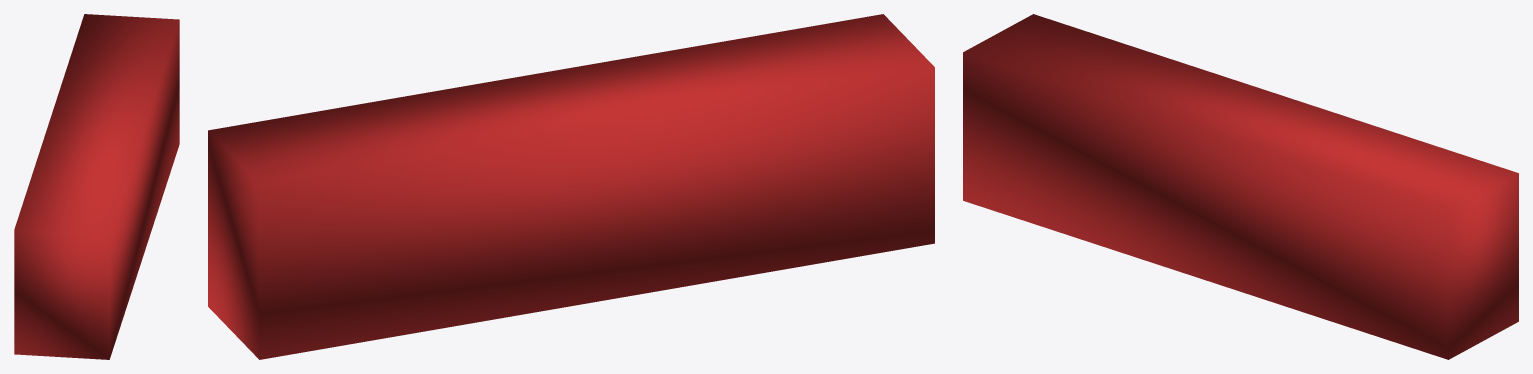
The model's file is NoLod_0.glb.
3 views of the same model, side by side, from view 1: azimuth 30°, elevation 25°; view 2: azimuth 150°, elevation 25°; view 3: azimuth 270°, elevation 25° (orthographic). The views are drawn at different scales.
Visible parts, largest first — view 1: rtc; view 2: rtc; view 3: rtc.
Boxes of the visible parts, x1,y1,x2,y2 form: rtc: [14, 14, 179, 359]; rtc: [208, 14, 934, 359]; rtc: [963, 14, 1518, 359].
Size of the model in its own units: 57.04 by 20 by 67.84.
